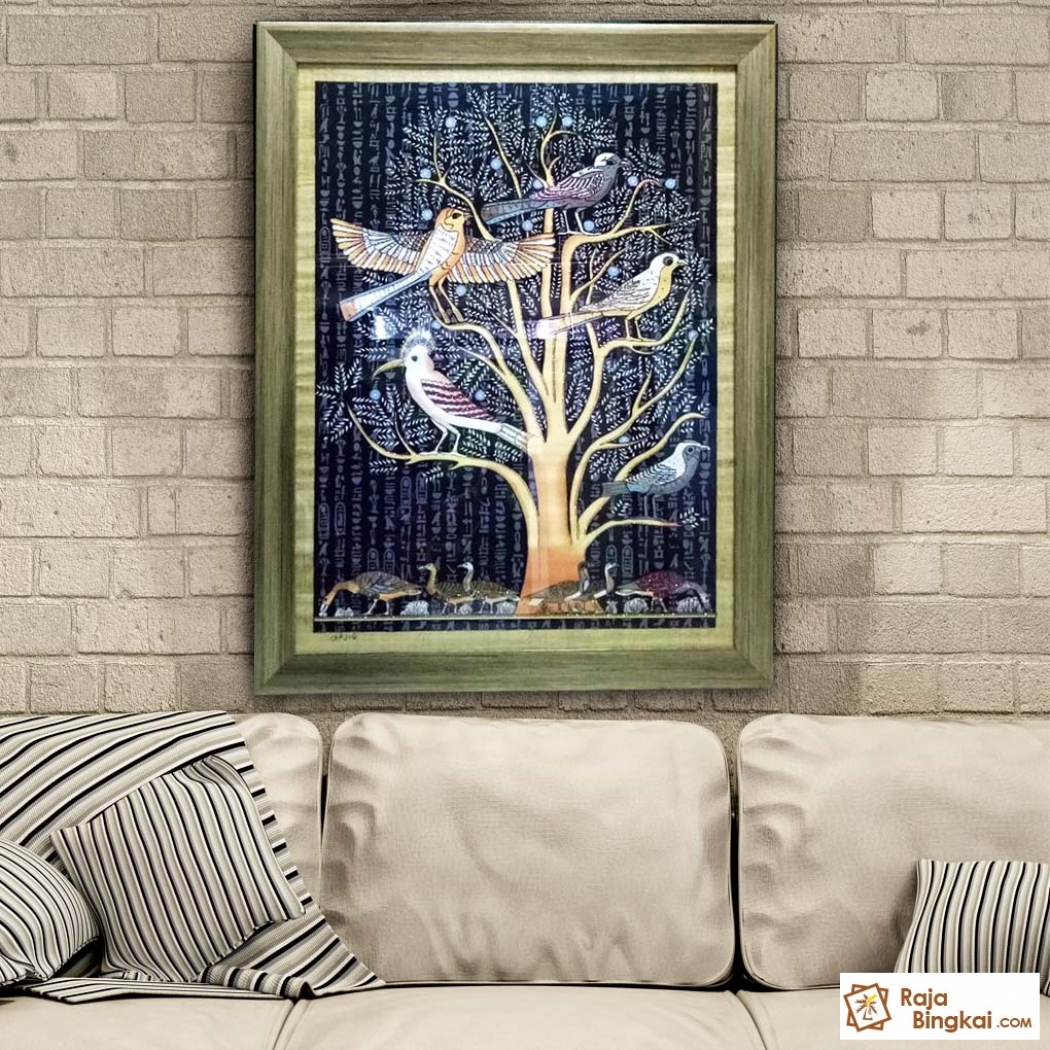lukisan: (234, 14, 815, 690)
